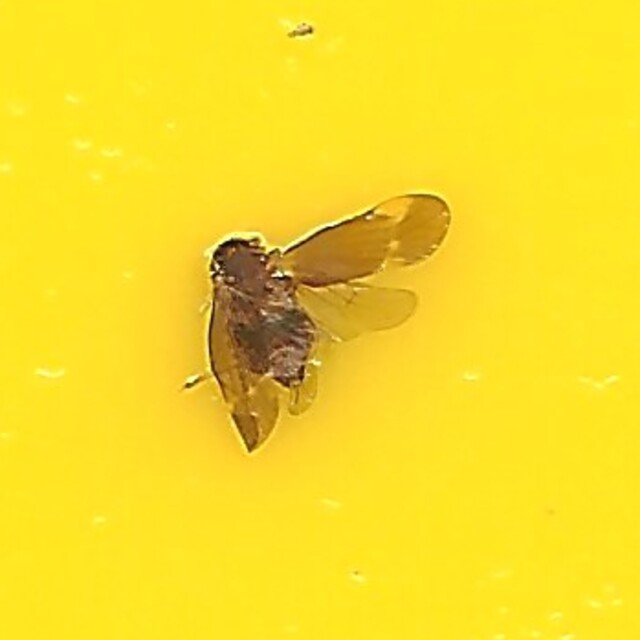Hemiptera: (183, 180, 457, 460)
